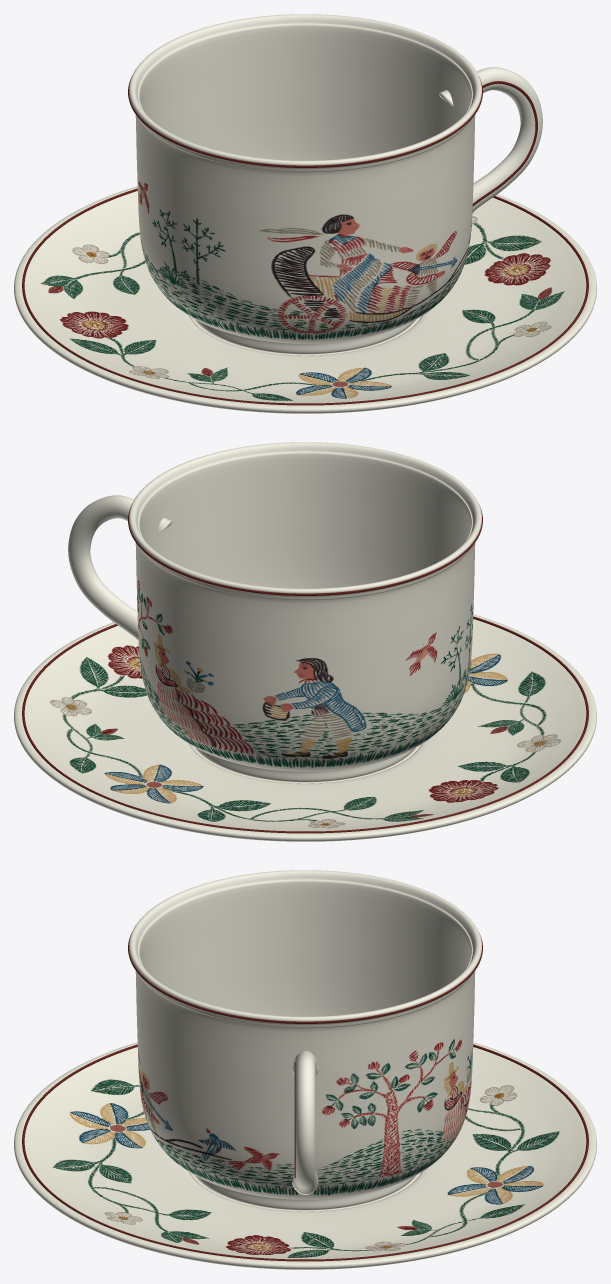
Rendered from coffee-cup-and-saucer.glb.
3 renders of one model, top to bottom at view 1: azimuth 30°, elevation 25°; view 2: azimuth 150°, elevation 25°; view 3: azimuth 270°, elevation 25°, orthographic.
Parts seen in each view (by area): view 1: Coffee Cup and Saucer - Combined; view 2: Coffee Cup and Saucer - Combined; view 3: Coffee Cup and Saucer - Combined.
Boxes of the visible parts, <box> form: Coffee Cup and Saucer - Combined: <box>14,14,596,413</box>; Coffee Cup and Saucer - Combined: <box>14,442,596,841</box>; Coffee Cup and Saucer - Combined: <box>14,870,596,1269</box>.
Bounding box in the file's own units: 0.1548 × 0.0677 × 0.1548.
5 materials, 3 textured.
